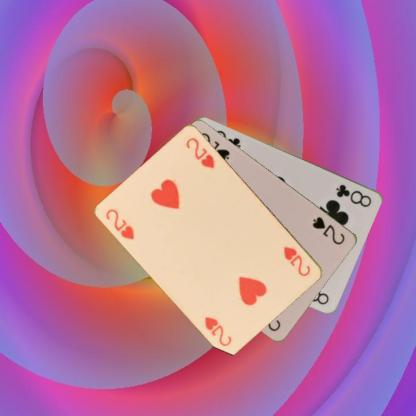2h: (103, 206, 136, 241), (281, 244, 312, 278)
2s: (310, 214, 346, 246)
8c: (333, 182, 374, 209)
